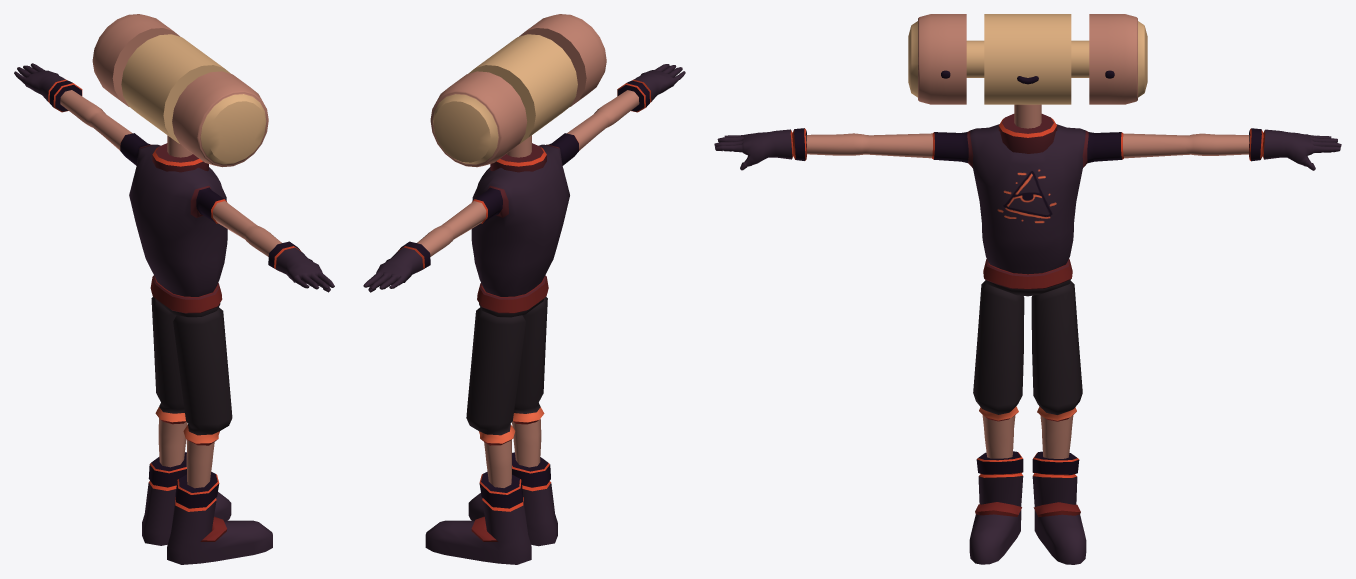
Rendered from Wonkerls.glb.
3 views of the same model, side by side, from view 1: azimuth 30°, elevation 25°; view 2: azimuth 150°, elevation 25°; view 3: azimuth 270°, elevation 25° (orthographic). The views are drawn at different scales.
Parts seen in each view (by area): view 1: _100Avatars_147_Wonkerls; view 2: _100Avatars_147_Wonkerls; view 3: _100Avatars_147_Wonkerls.
Boxes of the visible parts, bbox=[...] form: _100Avatars_147_Wonkerls: bbox=[14, 14, 334, 564]; _100Avatars_147_Wonkerls: bbox=[363, 14, 685, 564]; _100Avatars_147_Wonkerls: bbox=[714, 14, 1341, 564].
Size of the model in its own units: 0.9613 by 4.15 by 4.61.
1 material, 1 textured.
